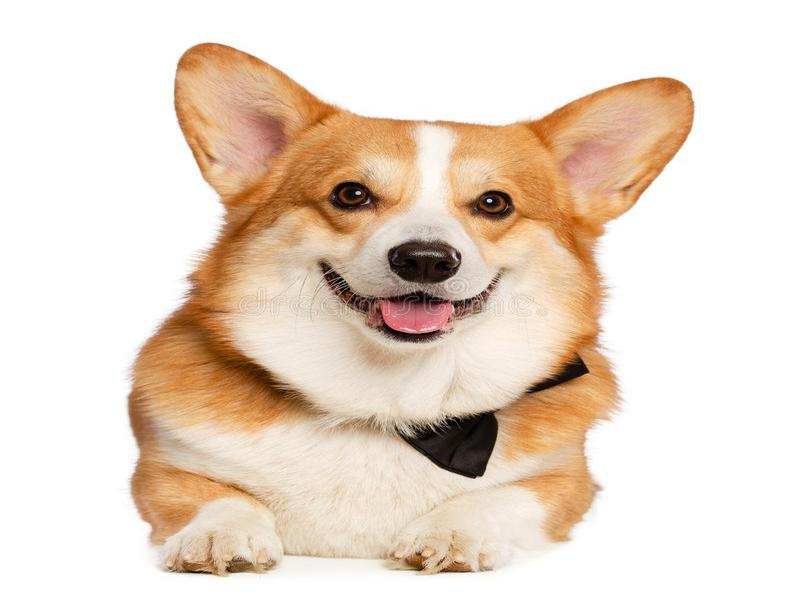corgi: (167, 38, 699, 341)
